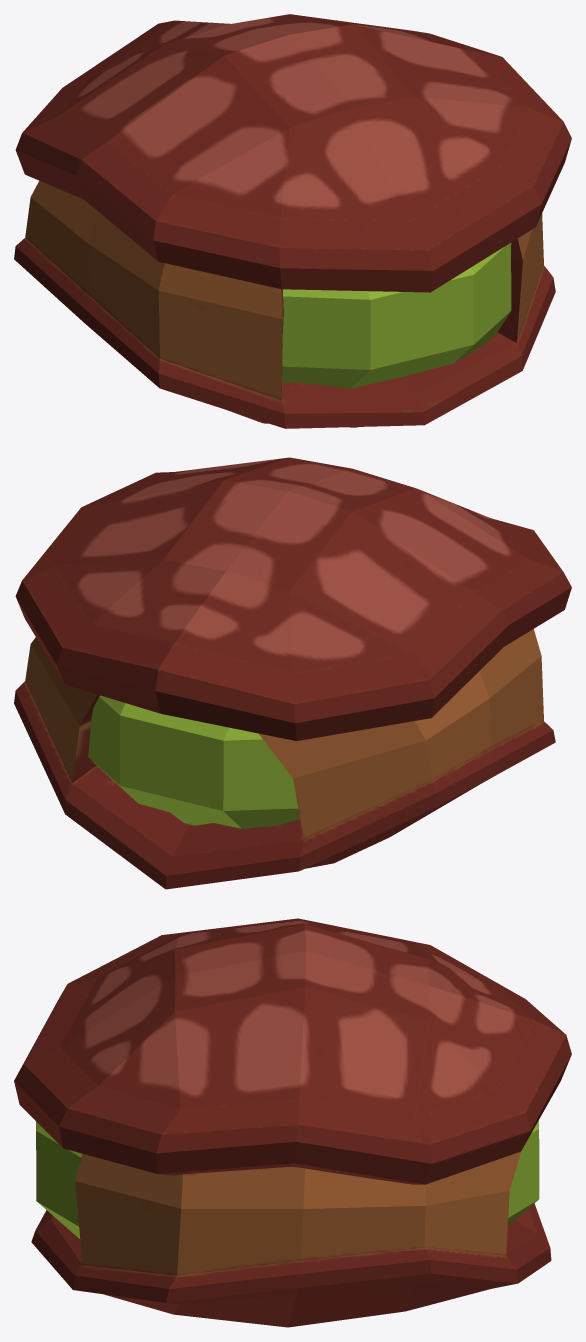
File: casco01.fbx
3 views of the same model, one above another, from view 1: azimuth 30°, elevation 25°; view 2: azimuth 150°, elevation 25°; view 3: azimuth 270°, elevation 25° (orthographic).
Visible parts, largest first — view 1: casco_tras.001; view 2: casco_tras.001; view 3: casco_tras.001.
Part boxes in pixels (<box>): casco_tras.001: <box>14,14,571,428</box>; casco_tras.001: <box>14,457,571,889</box>; casco_tras.001: <box>14,918,571,1327</box>.
Bounding box in the file's own units: 197 × 158 × 220.
